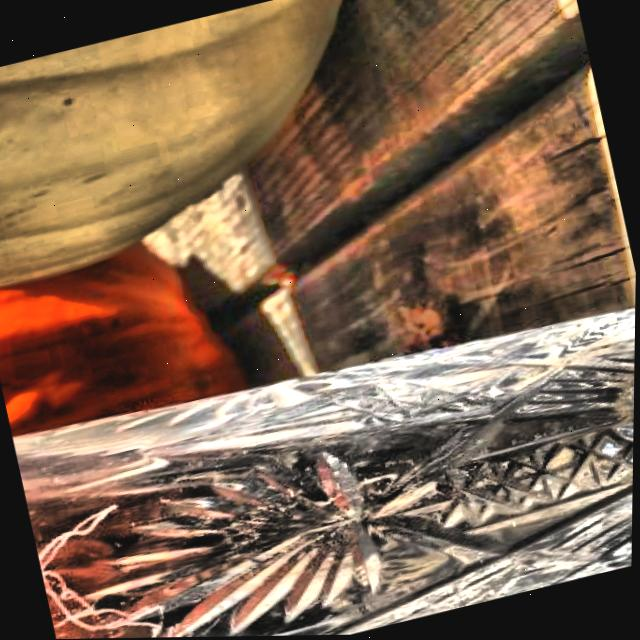glass: (14, 308, 636, 639)
